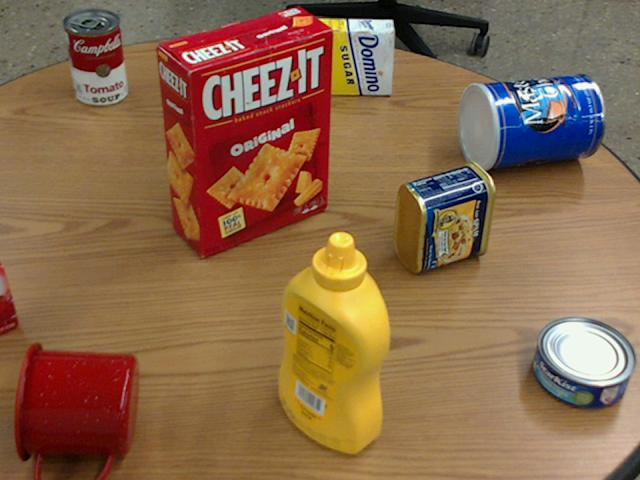cracker_box: (155, 7, 333, 256)
gelatin_box: (0, 260, 17, 332)
master_chef_can: (457, 73, 603, 170)
mug: (13, 341, 135, 479)
mustard_bottle: (278, 231, 387, 453)
potted_meat_can: (394, 160, 495, 273)
sugar_box: (260, 17, 396, 93)
tomato_soup_can: (64, 9, 127, 105)
tuna_fish_can: (531, 316, 633, 407)
